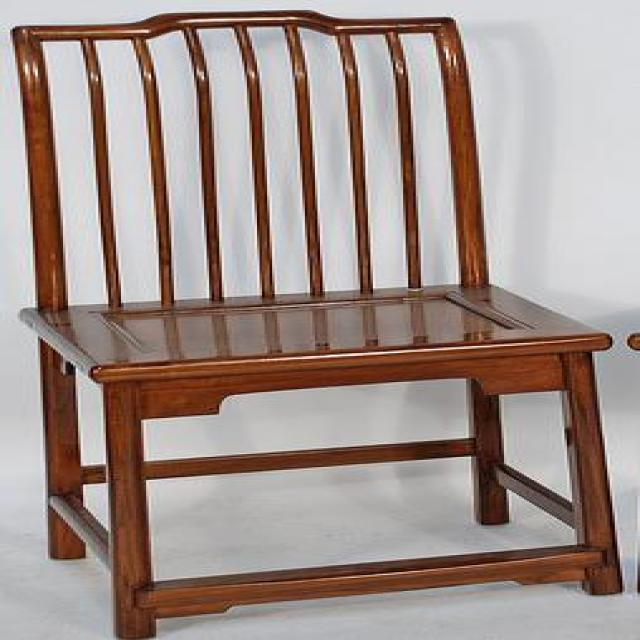chair: (1, 7, 626, 640)
